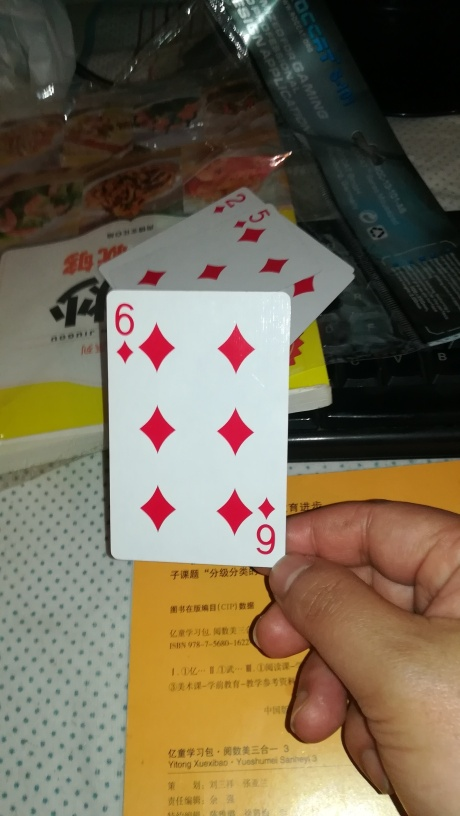fk 6: (103, 287, 291, 573)
